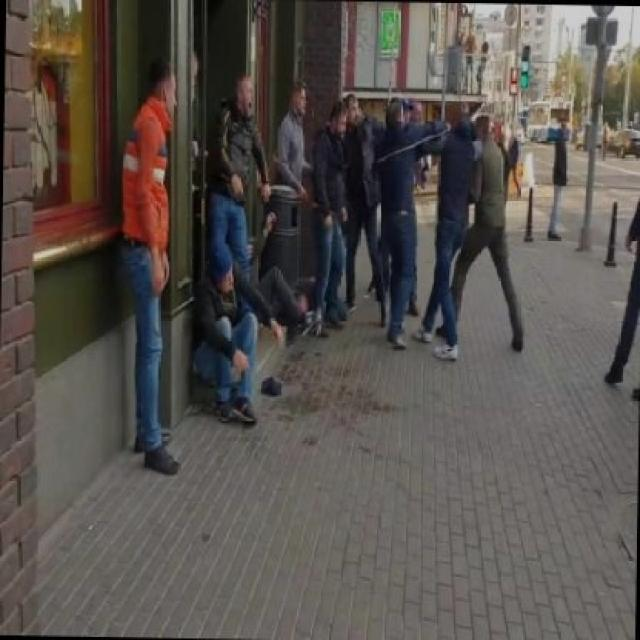fight: (369, 98, 478, 364)
non-fight: (110, 56, 184, 477), (438, 115, 526, 353), (204, 70, 273, 314), (188, 238, 262, 426), (314, 96, 352, 342), (271, 72, 315, 207)
